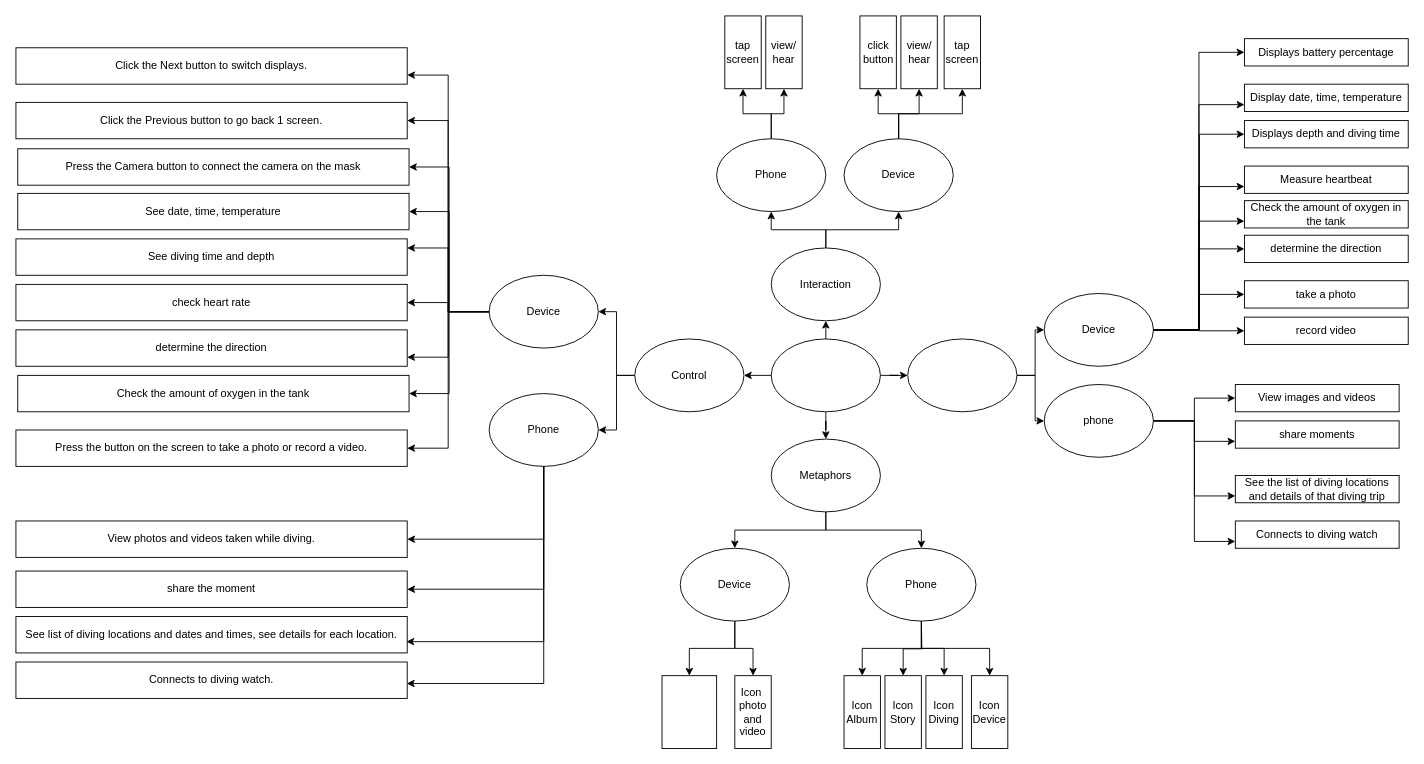
The diagram is 1424 pixels wide and 764 high, and some of its shapes have lost their labels. Here are the shapes that lost their labels. From the top down, the centre of each, then its label:
At (x=825, y=375): "diving watch".
At (x=962, y=375): "Functions".
At (x=689, y=711): "Icon heartbeat".
